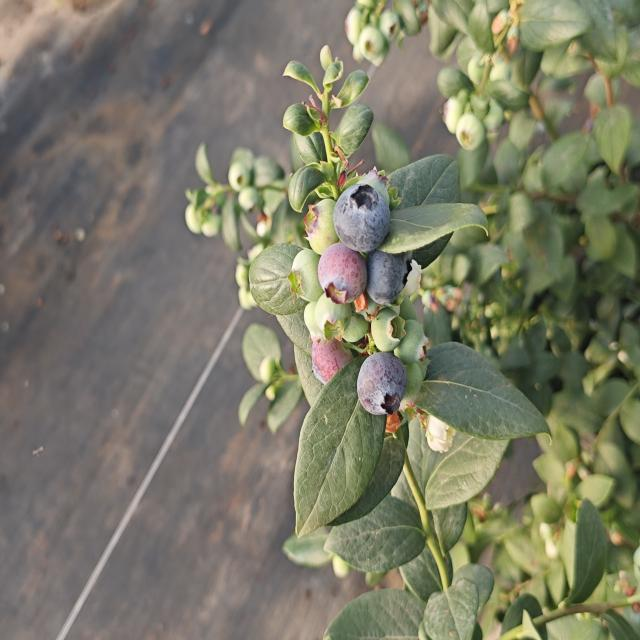ripe: (330, 180, 396, 250), (355, 347, 409, 422), (362, 239, 415, 310)
